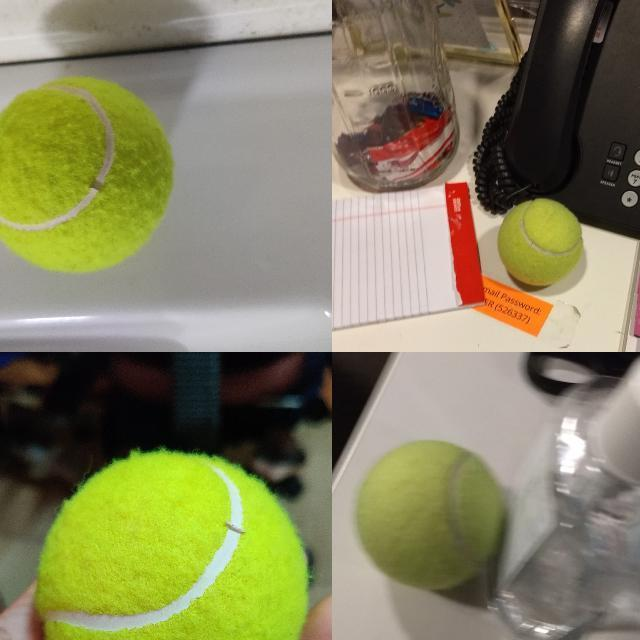tennis-ball: (36, 453, 309, 639), (0, 73, 178, 277), (355, 438, 503, 590), (495, 197, 583, 287)
